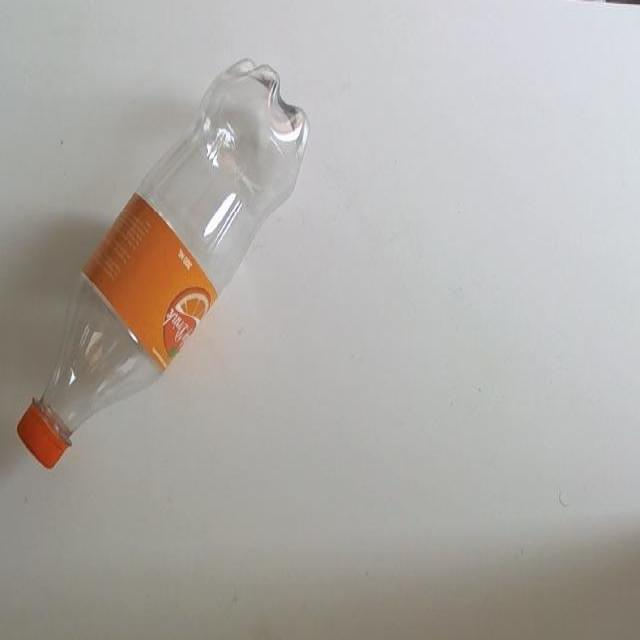non-defect: (14, 56, 311, 471)
